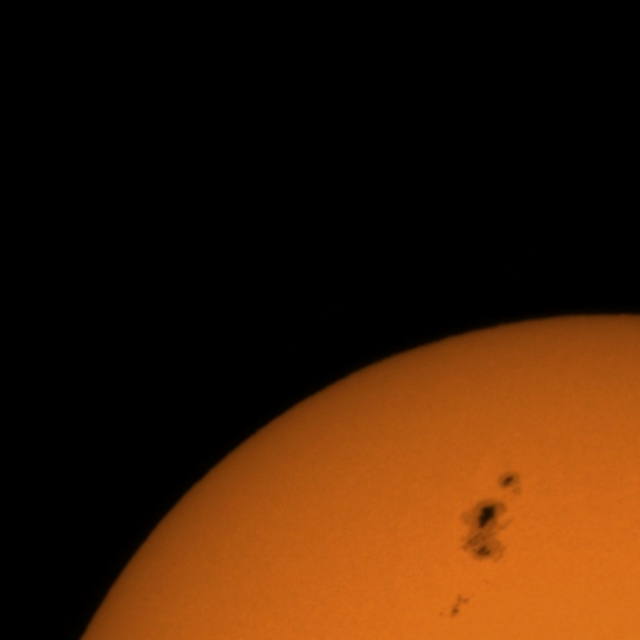sunspot: (455, 492, 512, 569), (436, 594, 473, 620), (490, 470, 520, 497)
